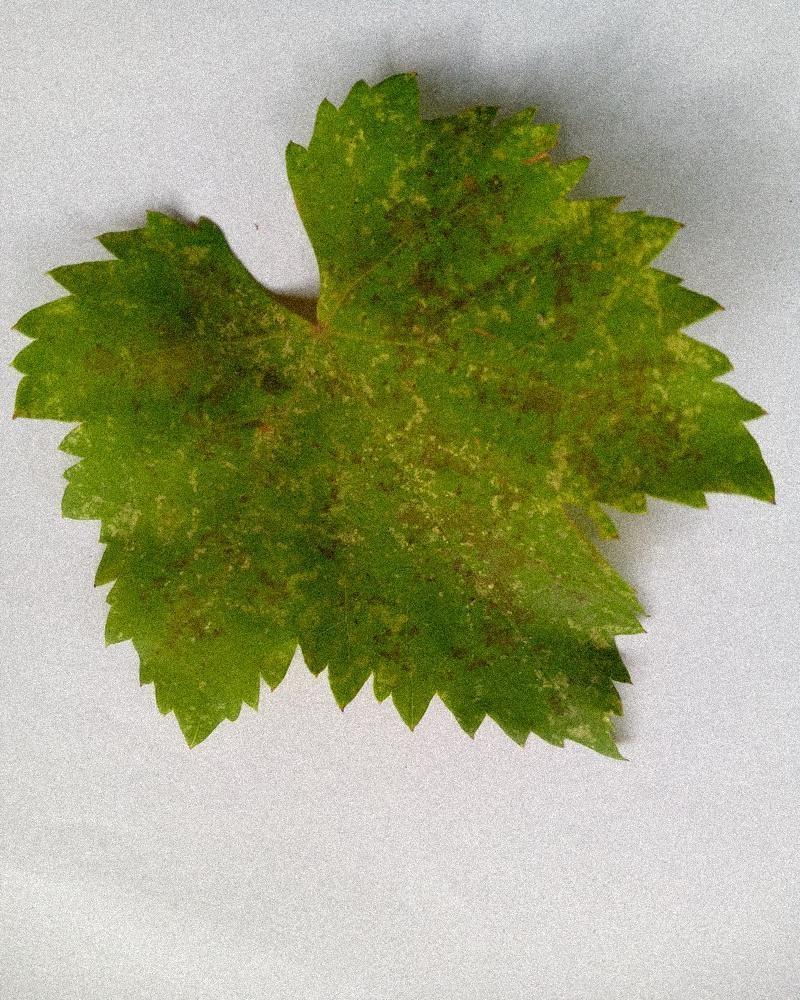Powdery-Mildew: (245, 343, 366, 470), (370, 415, 467, 532), (514, 437, 617, 542), (109, 468, 204, 548)
